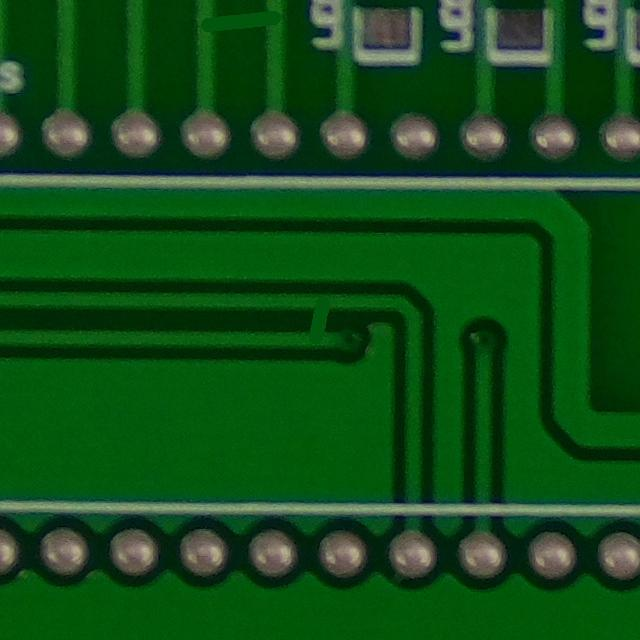short: (284, 288, 356, 353)
